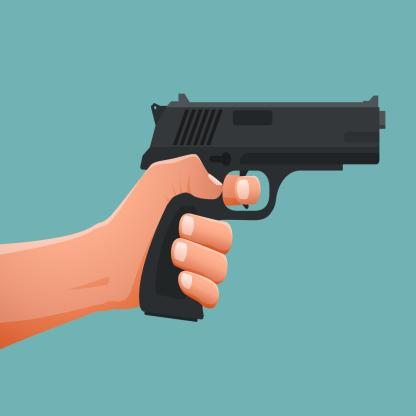handgun: (140, 92, 388, 318)
